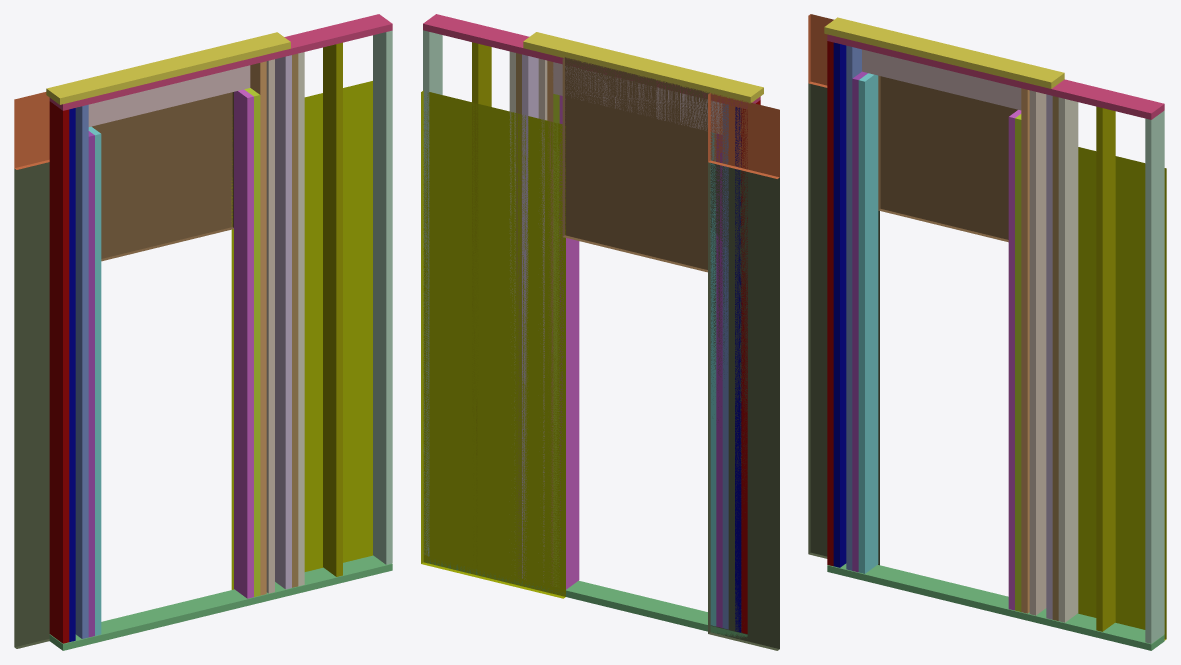
3 views of the same model, side by side, from view 1: azimuth 30°, elevation 25°; view 2: azimuth 150°, elevation 25°; view 3: azimuth 330°, elevation 25° (orthographic).
Visible parts, largest first — view 1: world; view 2: world; view 3: world.
Part boxes in pixels (x1,y1,x2,y2): world: (14,14,392,650); world: (421,14,779,650); world: (808,14,1166,650).
Size of the model in its own units: 85.5 by 125 by 6.5.
